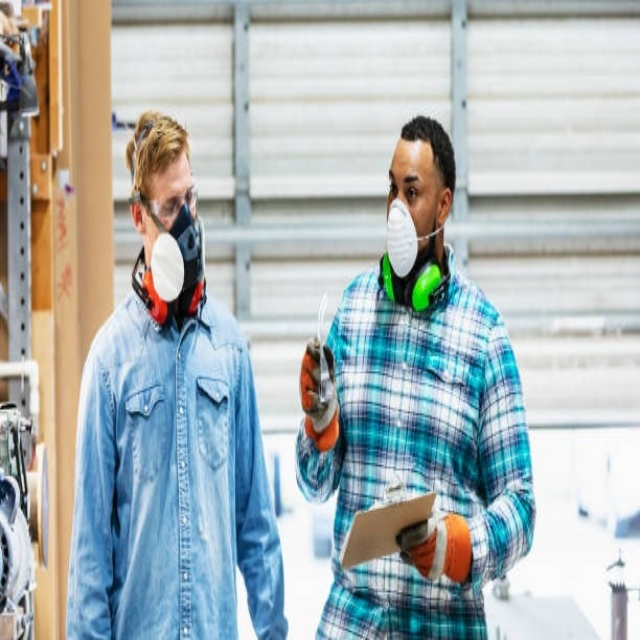Gafas: (144, 175, 199, 221)
Guantes: (404, 510, 471, 584), (301, 337, 339, 440)
Mascara: (134, 204, 205, 321), (386, 199, 419, 277)
Sin_gafas: (385, 162, 429, 208)
